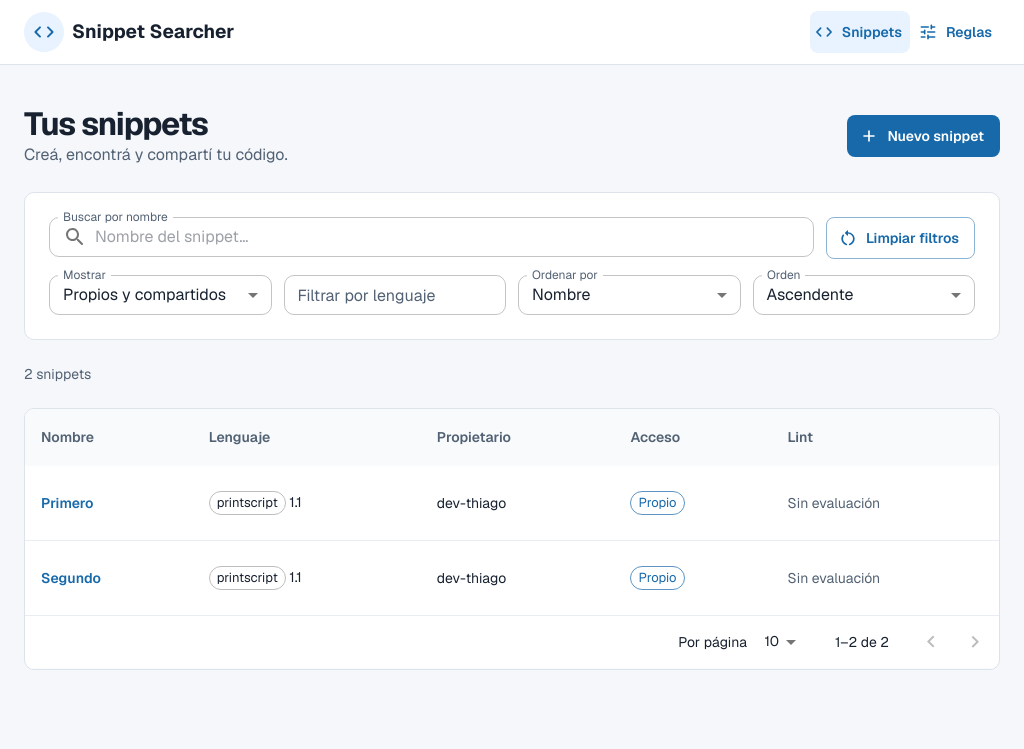
Test: SNI-51 execution panels › does not claim cancellation from 202 and blocks overlapping test starts
The image size is (1024, 749).
Click the button "Primero" at (68, 503), box [41,482,94,524]
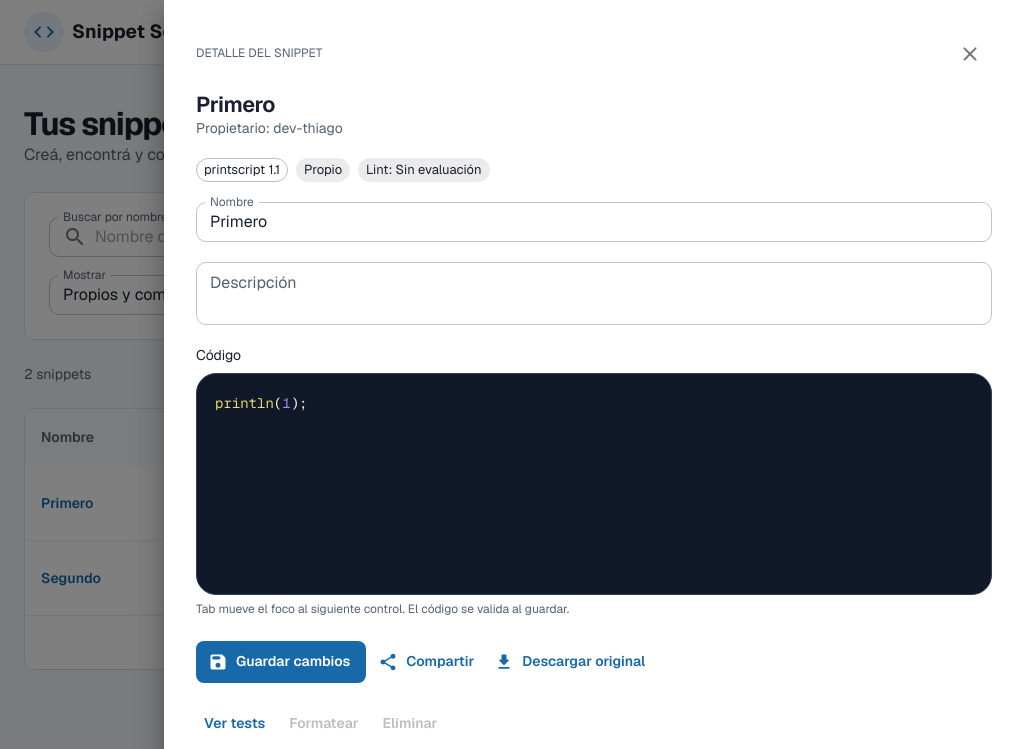
Scroll
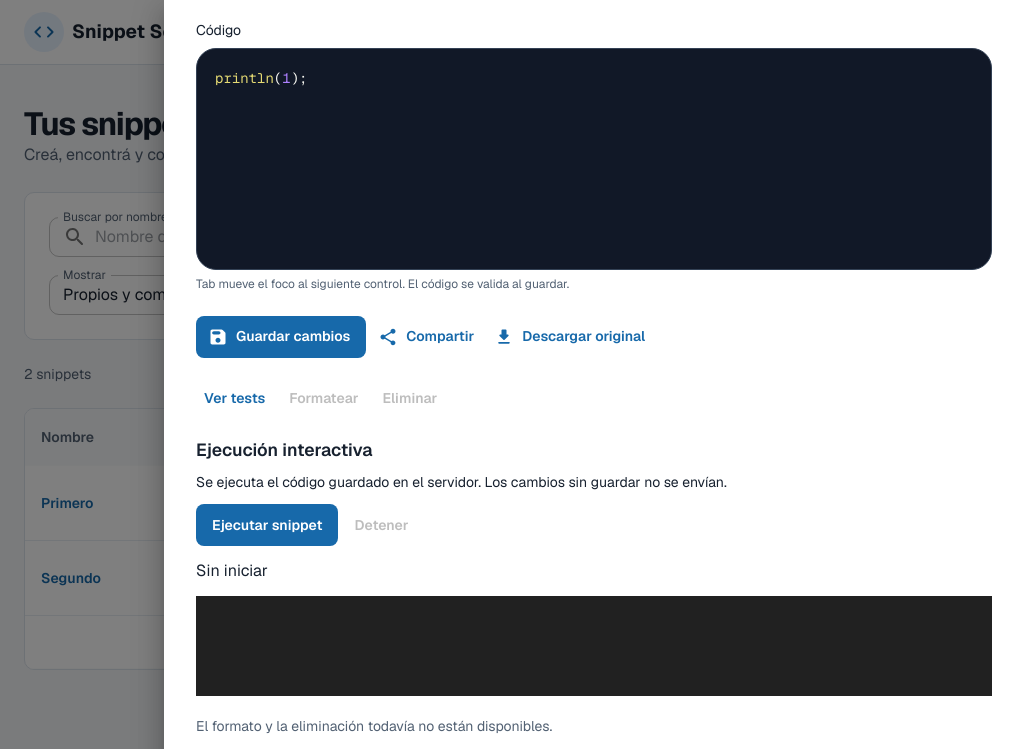
Click the button "Ejecutar snippet" at (268, 525), box [196,504,339,546]
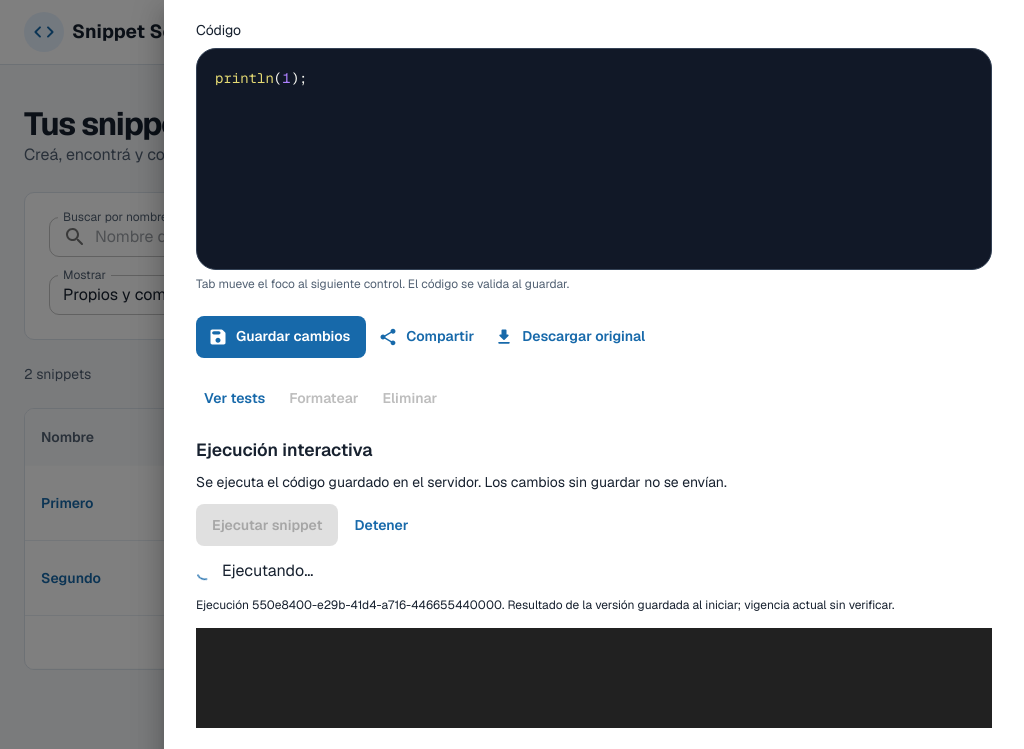
Click the button "Detener" at (382, 525), box [347,504,417,546]
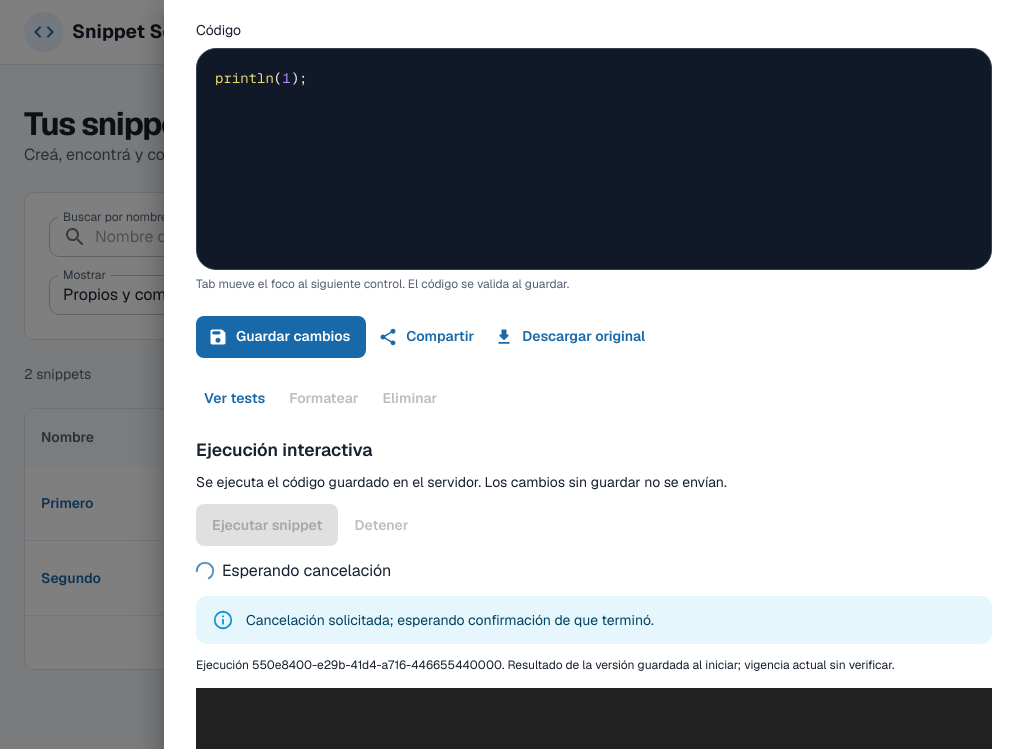
Check: the text "Cancelación confirmada" is not shown
Check: the text "Esperando cancelación" is shown, box [222,558,391,584]
Click the button "Ver tests" at (235, 399), box [196,378,273,420]
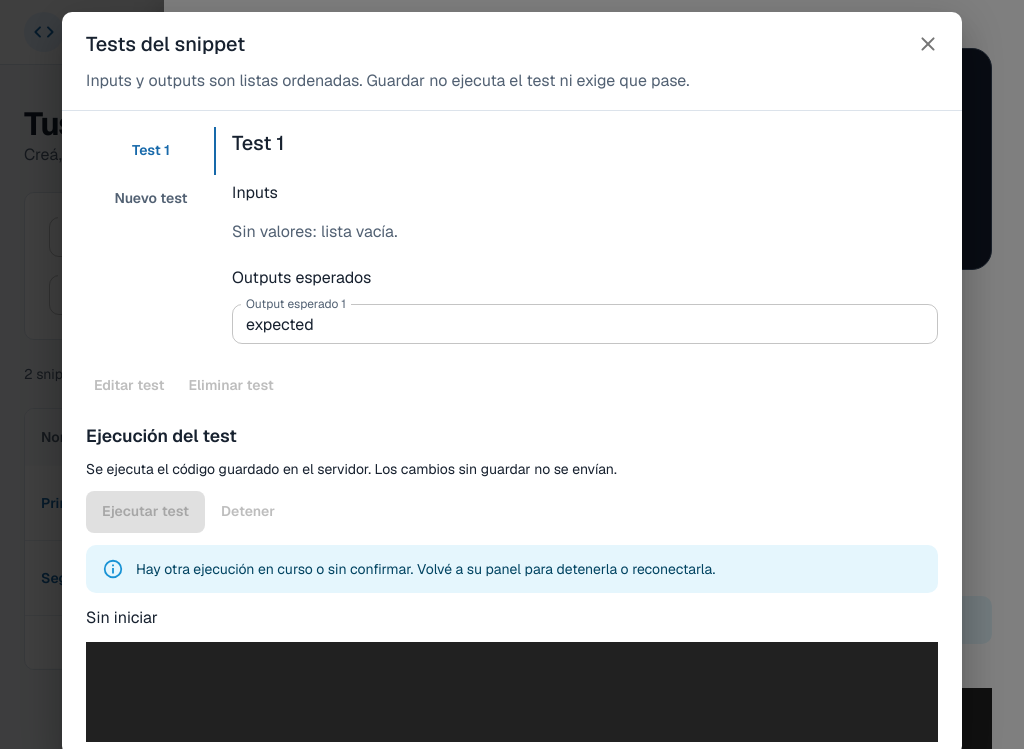
Check: the button "Ejecutar test" is disabled, box [86,491,205,533]
Click the button named "Cerrar diálogo" at (928, 44), box [906,22,950,66]
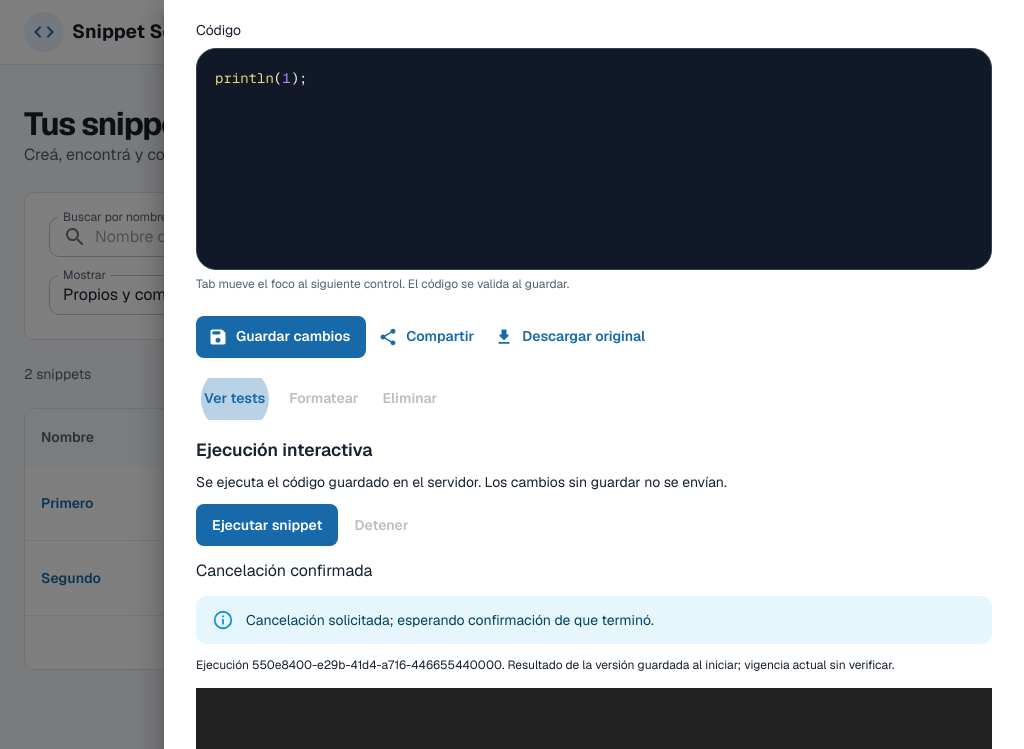
Check: the text "Cancelación confirmada" is shown, box [196,560,372,581]
